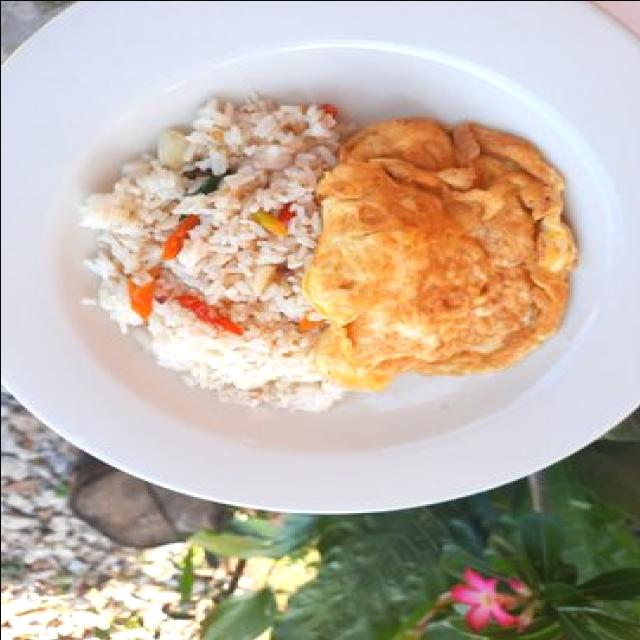telur dadar: (299, 114, 578, 389)
